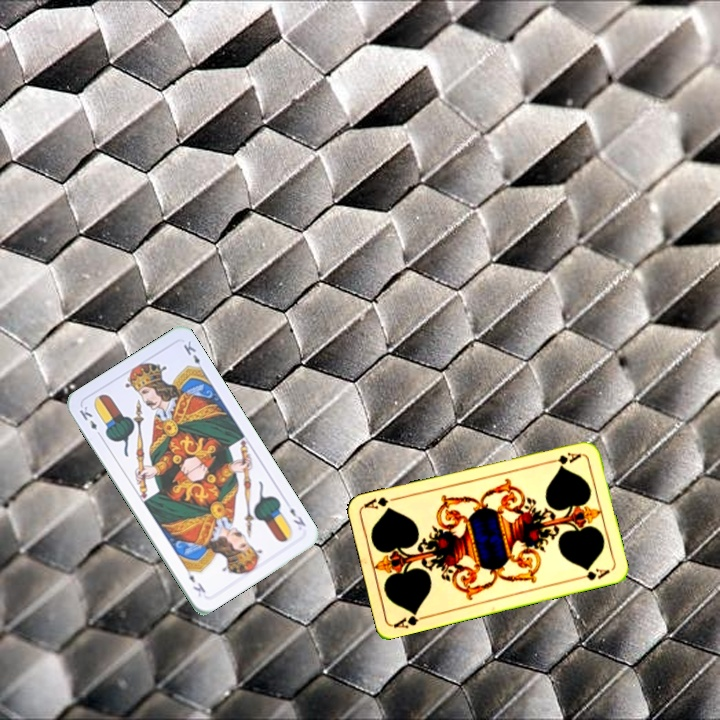EK: (75, 402, 105, 440), (286, 504, 308, 529)
GA: (390, 607, 430, 631), (544, 448, 583, 468)
